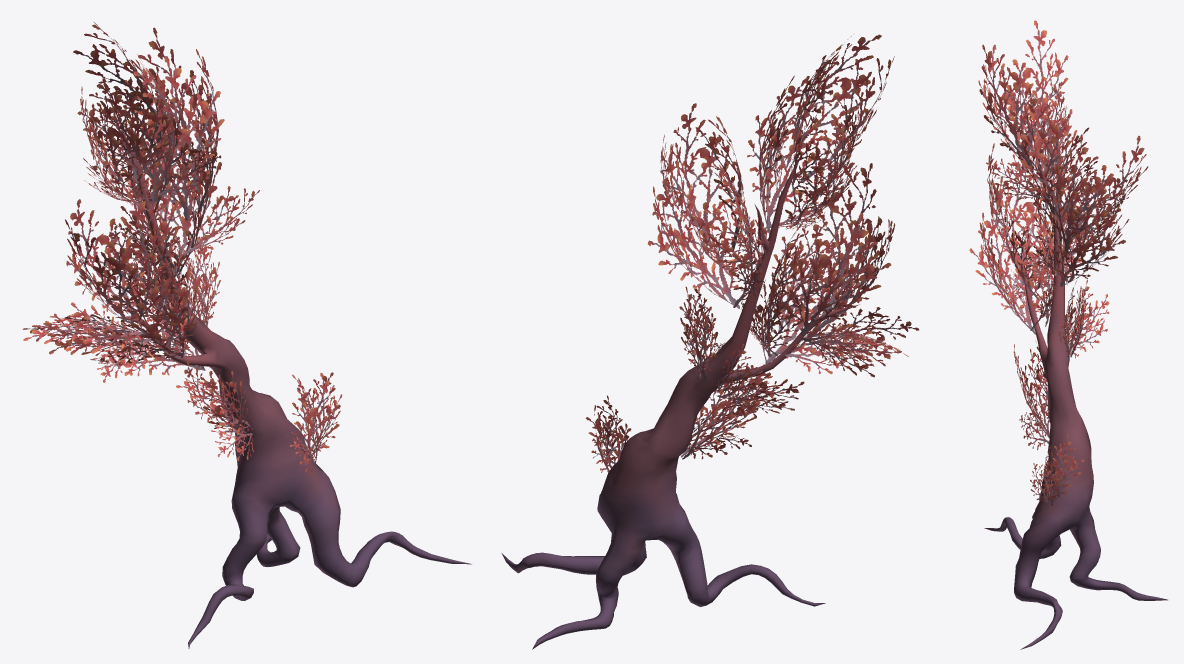
File: MSH_Tree_3.fbx
3 views of the same model, side by side, from view 1: azimuth 30°, elevation 25°; view 2: azimuth 150°, elevation 25°; view 3: azimuth 270°, elevation 25° (orthographic). The views are drawn at different scales.
Visible parts, largest first — view 1: Leaves_3_30, Tree_Low3; view 2: Leaves_3_30, Tree_Low3; view 3: Leaves_3_30, Tree_Low3.
Part boxes in pixels (box(x1,y1,x2,y2)): Leaves_3_30: box(22, 22, 342, 474); Tree_Low3: box(115, 123, 471, 648); Leaves_3_30: box(585, 34, 919, 472); Tree_Low3: box(501, 155, 859, 649); Leaves_3_30: box(969, 20, 1148, 505); Tree_Low3: box(984, 141, 1167, 649).
Size of the model in its own units: 349 by 473 by 186.
